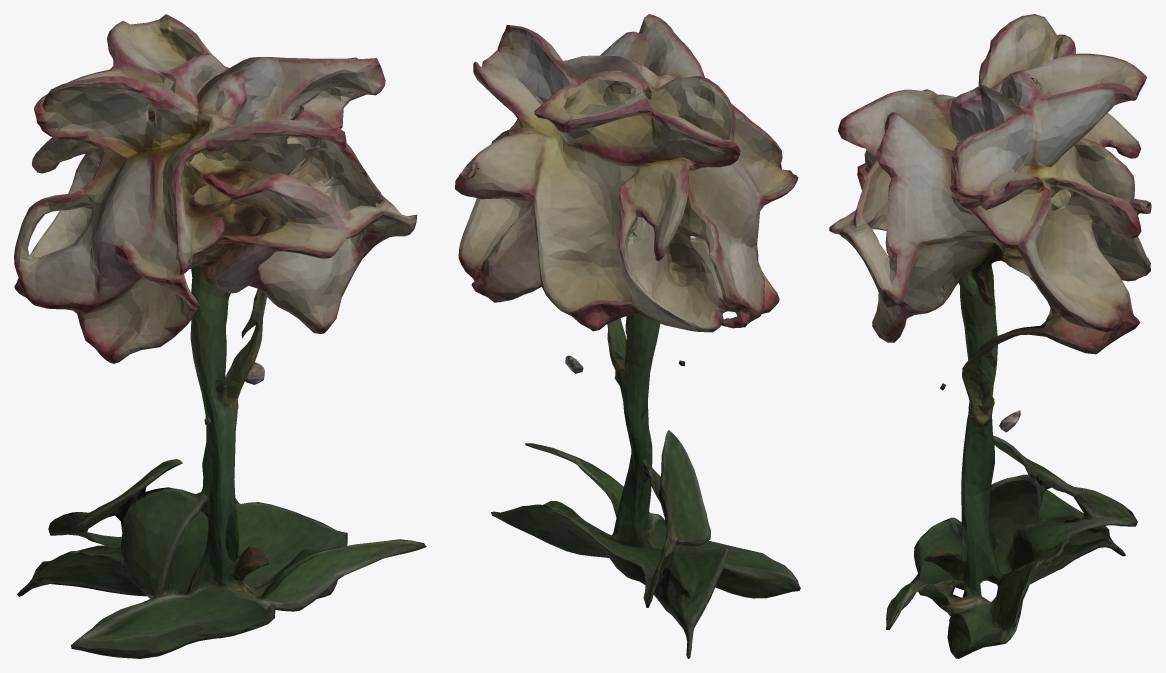
The picture shows the model from 3 angles, left to right: view 1: azimuth 30°, elevation 25°; view 2: azimuth 150°, elevation 25°; view 3: azimuth 270°, elevation 25°; orthographic projection. The views are drawn at different scales.
Visible parts, largest first — view 1: world; view 2: world; view 3: world.
Boxes of the visible parts, <box> form: world: <box>14,14,426,658</box>; world: <box>455,14,800,658</box>; world: <box>829,14,1151,658</box>.
Size of the model in its own units: 0.5751 by 0.9461 by 0.5024.
1 material, 1 textured.
